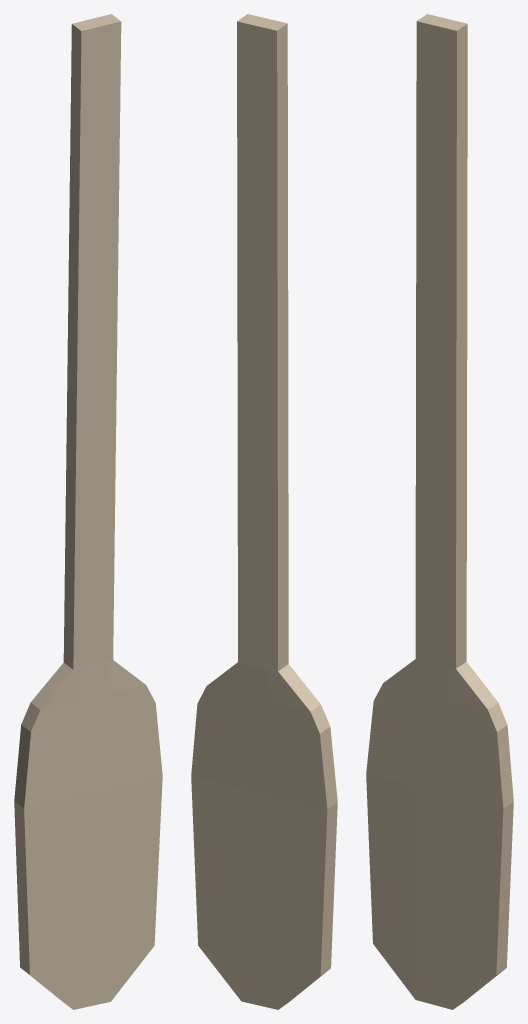
Rendered from Paddle.fbx.
3 views of the same model, side by side, from view 1: azimuth 30°, elevation 25°; view 2: azimuth 150°, elevation 25°; view 3: azimuth 330°, elevation 25° (orthographic).
Parts seen in each view (by area): view 1: Paddle; view 2: Paddle; view 3: Paddle.
Part boxes in pixels (x1,y1,x2,y2): Paddle: (14,14,162,1009); Paddle: (191,14,337,1009); Paddle: (366,14,513,1009).
Size of the model in its own units: 13.16 by 2.34 by 89.38.
